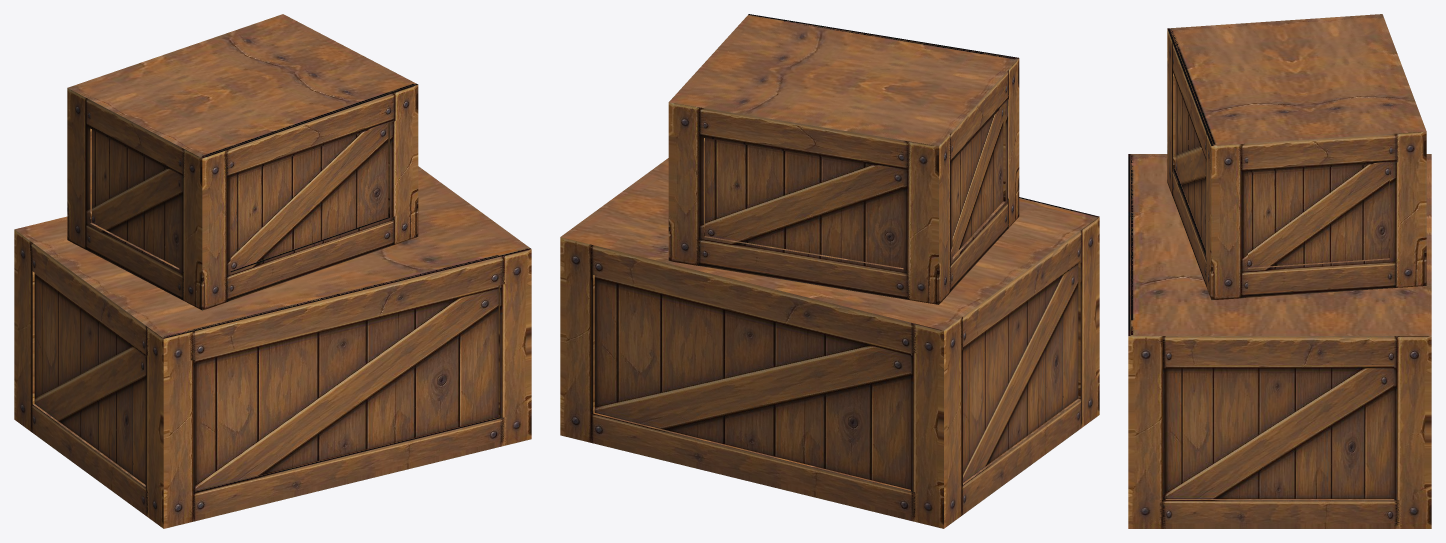
Rendered from crates.glb.
The picture shows the model from 3 angles, left to right: view 1: azimuth 30°, elevation 25°; view 2: azimuth 150°, elevation 25°; view 3: azimuth 270°, elevation 25°; orthographic projection. The views are drawn at different scales.
Visible parts, largest first — view 1: crates; view 2: crates; view 3: crates.
Part boxes in pixels (x1,y1,x2,y2): crates: (14,14,531,528); crates: (560,14,1099,528); crates: (1128,14,1431,528).
Bounding box in the file's own units: 1.01 × 0.9 × 0.712.
1 material, 1 textured.
